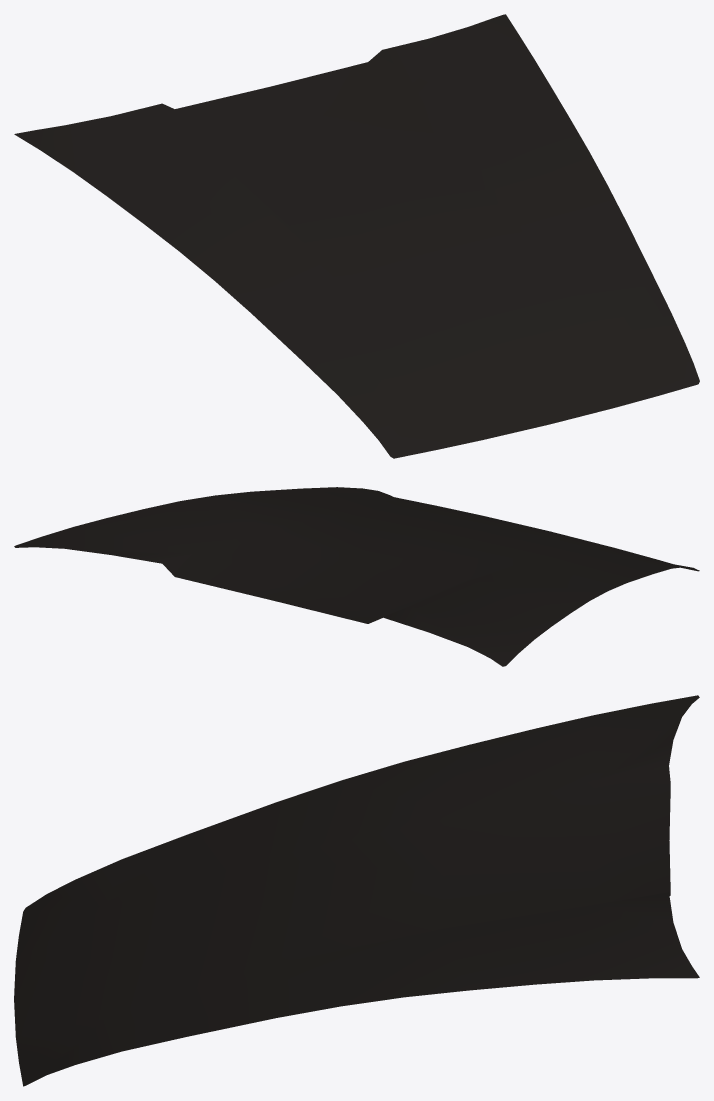
The model's file is RWB_Hood_01_Trim.fbx.
The picture shows the model from 3 angles, top to bottom: view 1: azimuth 30°, elevation 25°; view 2: azimuth 150°, elevation 25°; view 3: azimuth 270°, elevation 25°; orthographic projection. The views are drawn at different scales.
Visible parts, largest first — view 1: RWB_Hood_01_Trim; view 2: RWB_Hood_01_Trim; view 3: RWB_Hood_01_Trim.
Boxes of the visible parts, x1=… form: RWB_Hood_01_Trim: x1=14, y1=14, x2=699, y2=458; RWB_Hood_01_Trim: x1=14, y1=487, x2=699, y2=666; RWB_Hood_01_Trim: x1=14, y1=695, x2=699, y2=1086.
Size of the model in its own units: 121 by 34.03 by 124.
